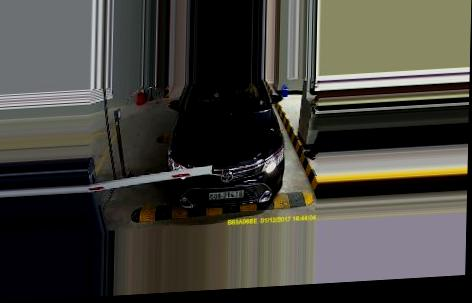License_Plate: (206, 187, 245, 201)
